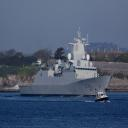Fragata: (19, 28, 115, 99)
